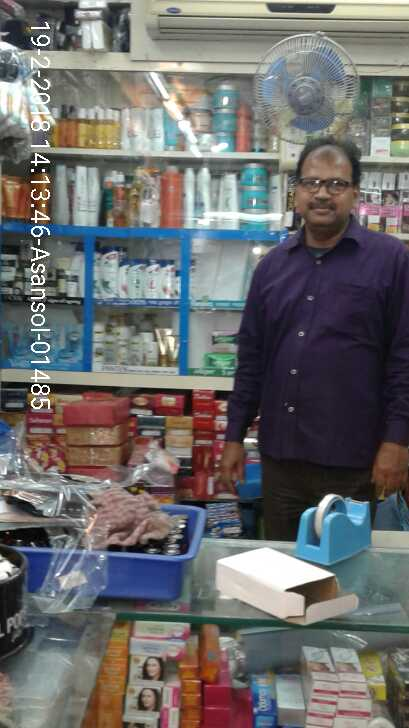venus: (30, 322, 59, 366), (59, 324, 84, 366), (6, 322, 30, 359)
